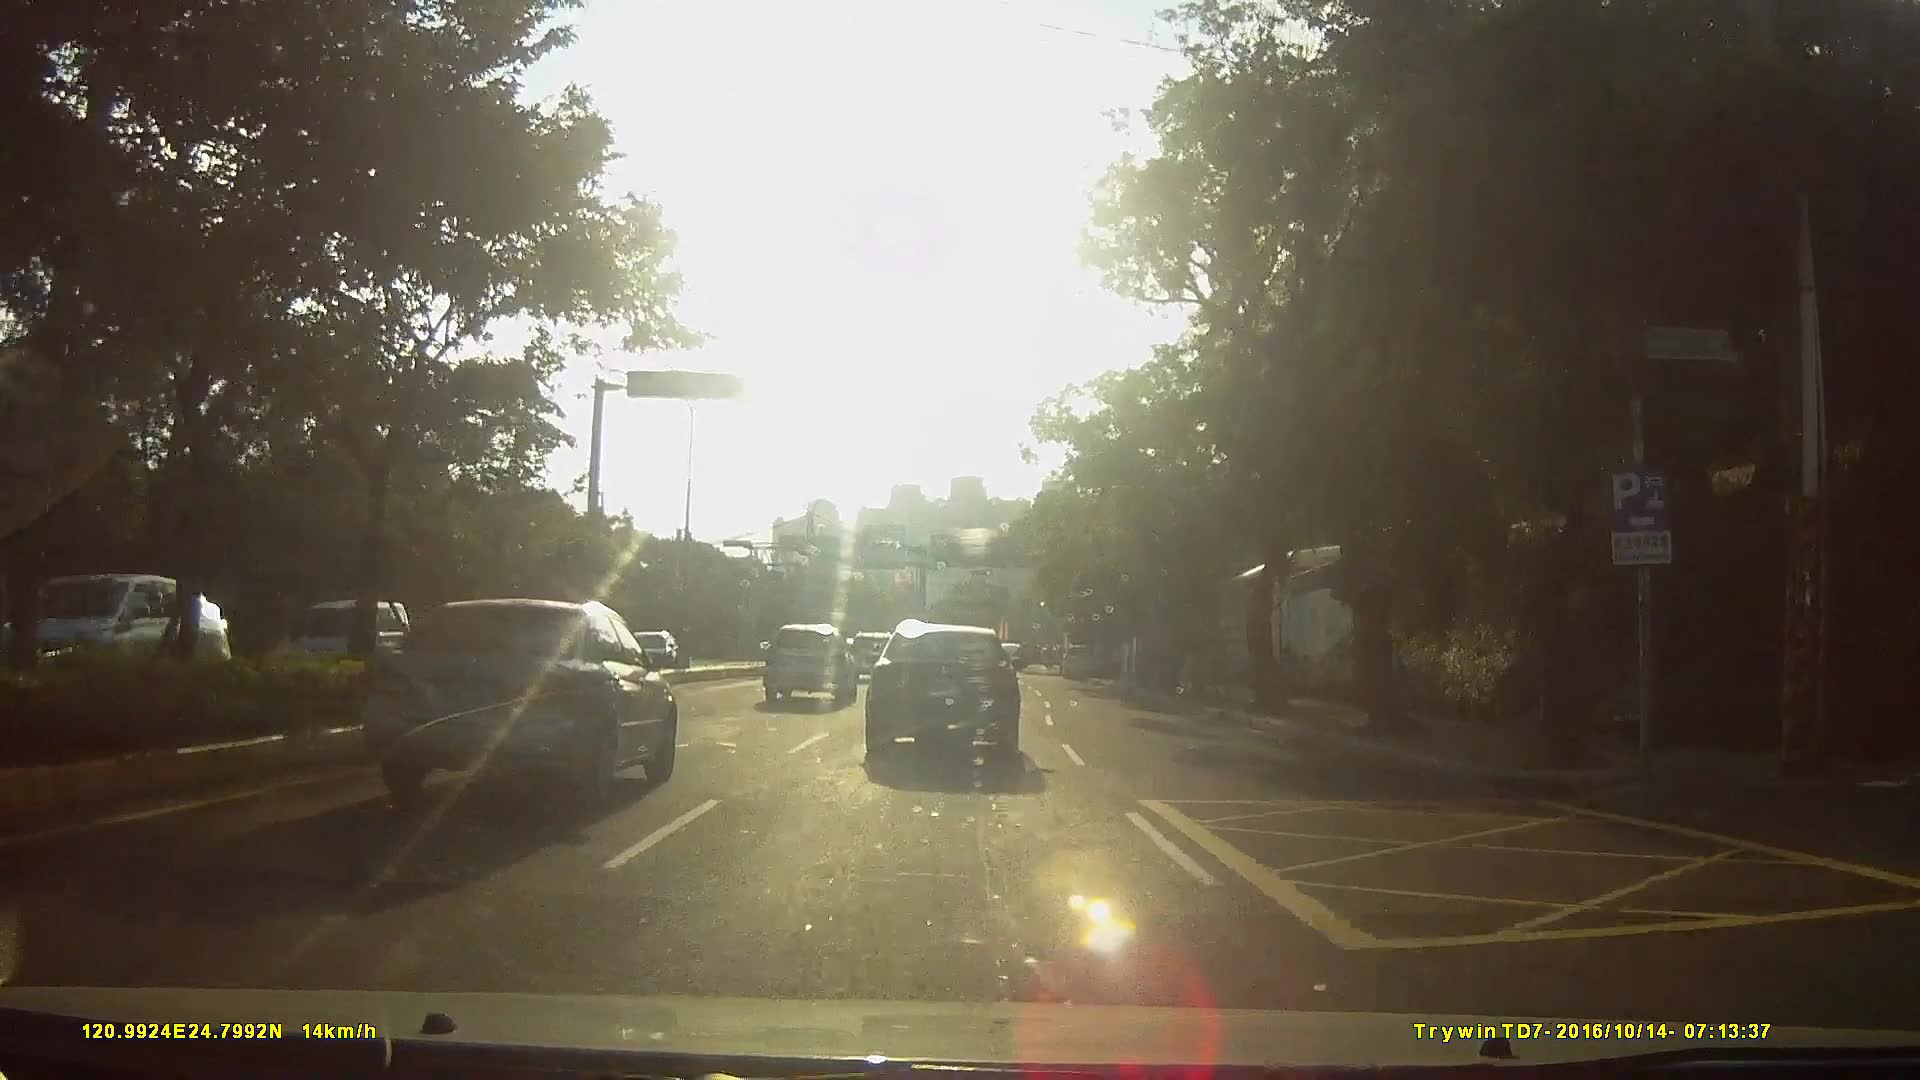vehicle: (361, 597, 676, 811), (1, 572, 243, 709), (865, 621, 1046, 769), (758, 625, 858, 711), (843, 632, 898, 686), (1060, 646, 1101, 684)
